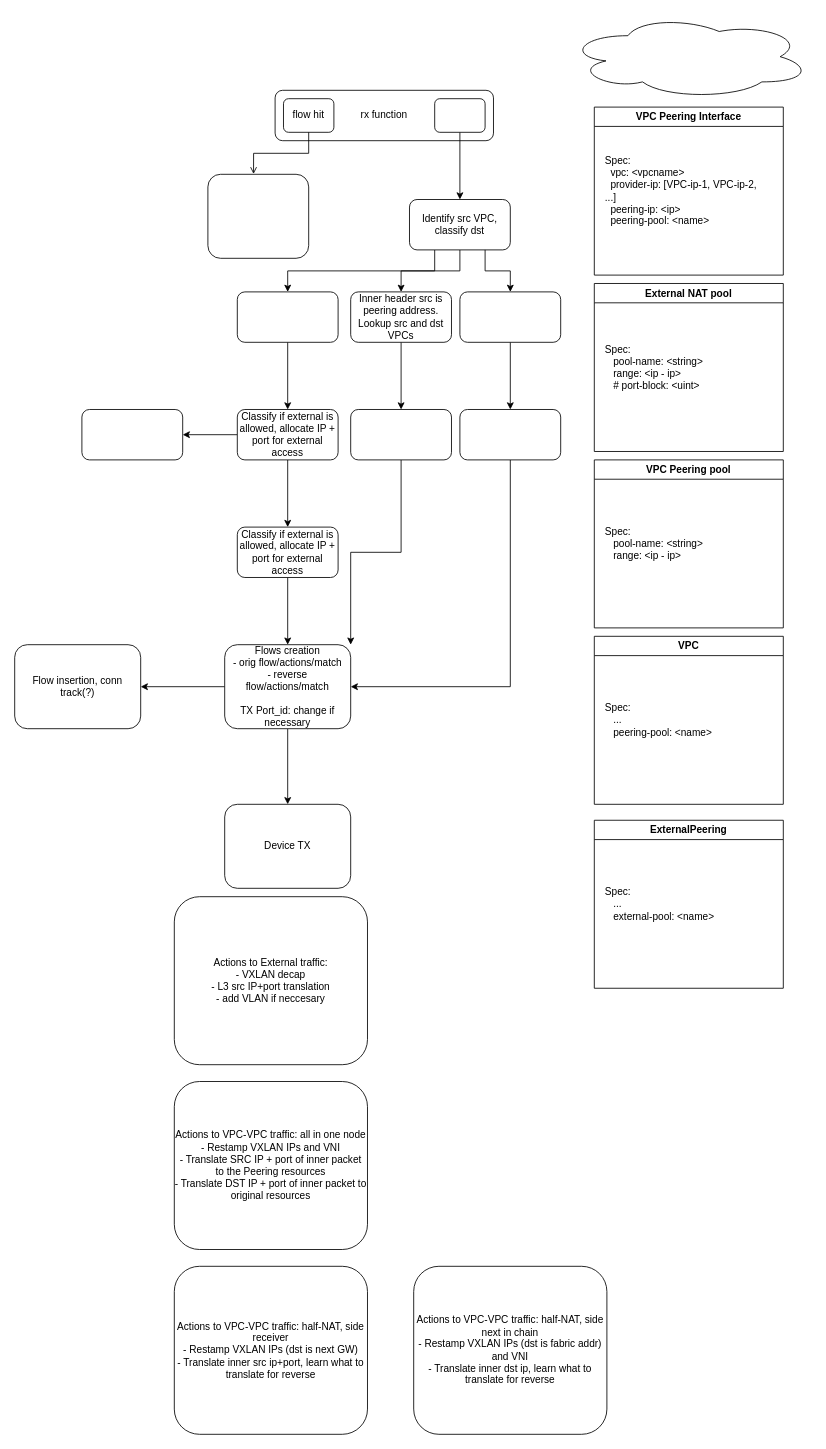
The diagram is 826 pixels wide and 1449 high, and some of its shapes have lost their labels. Here are the shapes that lost their labels. From the top down, the centre of each, then its label:
the point at 688,56: API Interface
the point at 459,115: no flow hit
the point at 258,215: Existing flows with known action set
the point at 287,316: Inner header dst -> outside
the point at 510,316: Inner header dst -> VPC. Based on inner IP pick original VPCs IP
the point at 132,434: Drop if can't be classified or addresses are exhausted
the point at 401,434: Don't allocate anything, just translate
the point at 510,434: Allocate IP + port from VPC peering pool to translate inner src
